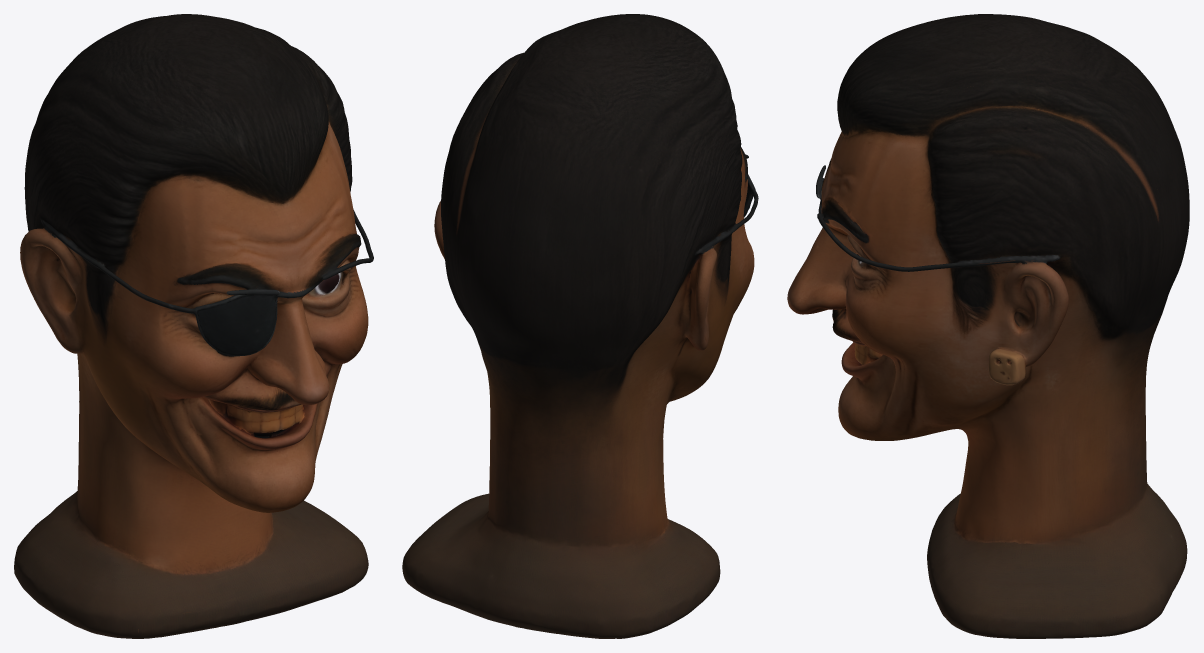
Rendered from apostador__s2026.glb.
3 renders of one model, left to right at view 1: azimuth 30°, elevation 25°; view 2: azimuth 150°, elevation 25°; view 3: azimuth 270°, elevation 25°, orthographic. The views are drawn at different scales.
Visible parts, largest first — view 1: world; view 2: world; view 3: world.
Boxes of the visible parts, left/top/right/bottom form: world: left=14, top=14, right=373, bottom=638; world: left=402, top=14, right=758, bottom=638; world: left=787, top=14, right=1189, bottom=638.
Size of the model in its own units: 0.5692 by 1 by 0.6759.
1 material, 1 textured.
